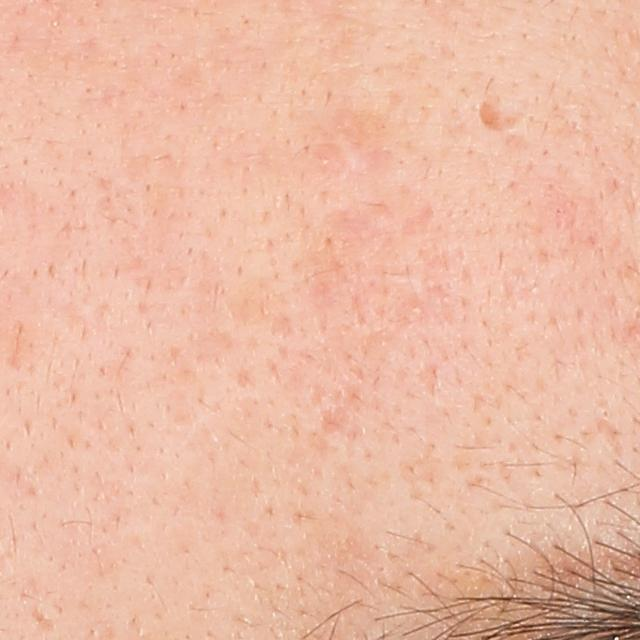atrophic_scar: (478, 84, 534, 134), (4, 319, 27, 372), (33, 604, 55, 638)
